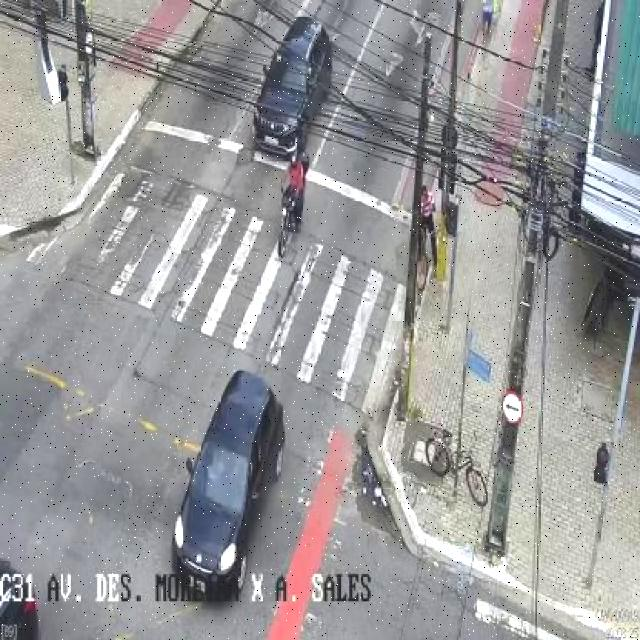bicycle: (424, 430, 487, 508), (416, 183, 439, 289)
car: (170, 368, 286, 601), (252, 16, 332, 153)
motorbike: (278, 150, 310, 258)
